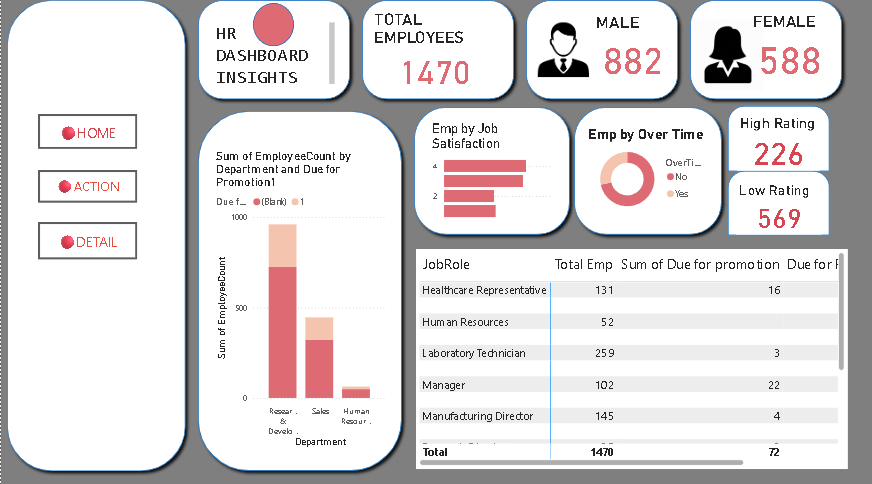

Layout of this report page (visuals, bound fields, positions):
{"tool":"powerbi","page":{"name":"Page 2","canvas":[1280,720],"ordinal":1},"visuals":[{"type":"shape","box":[278.8,0,240.2,162.9],"z":0},{"type":"shape","box":[999.5,0,240.2,162.9],"z":1000},{"type":"shape","box":[759.3,0,240.2,162.9],"z":2000},{"type":"shape","box":[519.1,0,240.2,162.9],"z":3000},{"type":"shape","box":[0,0,278.8,707.2],"z":4000},{"type":"shape","box":[278.8,162.9,315.8,544.3],"z":5000},{"type":"shape","box":[829.4,155.9,233.8,204.4],"z":6000},{"type":"shape","box":[595.6,155.9,245.6,204.4],"z":7000},{"type":"columnChart","fields":{"Category":["HR Analytics Data.Department"],"Y":["Sum(HR Analytics Data.EmployeeCount)"],"Series":["HR Analytics Data.Due for Promotion1"]},"box":[310,226.7,258.3,441.7],"z":8000},{"type":"clusteredBarChart","title":"Emp by Job Satisfaction","fields":{"Category":["HR Analytics Data.JobSatisfaction"],"Y":["CountNonNull(HR Analytics Data.EmployeeNumber)"]},"box":[626.5,185.3,183.8,145.6],"z":9000},{"type":"donutChart","title":"Emp by Over Time","fields":{"Category":["HR Analytics Data.OverTime"],"Y":["Sum(HR Analytics Data.EmployeeCount)"]},"box":[854.4,192.6,183.8,132.4],"z":10000},{"type":"card","title":"TOTAL EMPLOYEES","fields":{"Values":["HR Analytics Data.Total Emp"]},"box":[541.7,23.3,188.3,116.7],"z":11000},{"type":"image","box":[778.3,36.7,88.3,90],"z":12000},{"type":"card","title":"MALE","fields":{"Values":["HR Analytics Data.MALE"]},"box":[866.7,28.3,116.7,98.3],"z":13000},{"type":"card","title":"FEMALE","fields":{"Values":["HR Analytics Data.FEMALE"]},"box":[1096.7,26.7,115,100],"z":14000},{"type":"image","box":[1005,23.3,116.7,131.7],"z":15000},{"type":"pivotTable","fields":{"Rows":["HR Analytics Data.JobRole"],"Values":["HR Analytics Data.Total Emp","Sum(data csv promomtion.Due for promotion)","HR Analytics Data.Due for Retrenchment"]},"box":[607.4,373.5,632.4,322.1],"z":16000},{"type":"actionButton","box":[54.7,258.1,145.3,47.9],"z":17000},{"type":"actionButton","box":[54.7,333.2,145.3,54.7],"z":19000},{"type":"textbox","box":[310,36.7,183.3,103.3],"z":20000},{"type":"shape","box":[368.3,13.3,60,63.3],"z":21000},{"type":"shape","box":[1063.2,163.2,148.5,95.6],"z":22000},{"type":"shape","box":[1063.2,258.8,148.5,94.1],"z":23000},{"type":"actionButton","box":[54.7,176,145.3,51.3],"z":24000},{"type":"card","title":"High Rating","fields":{"Values":["HR Analytics Data.High Rating1"]},"box":[1076.5,177.9,122.1,80.9],"z":27000},{"type":"card","title":"Low Rating","fields":{"Values":["HR Analytics Data.Low Rating"]},"box":[1074.9,275.1,124.8,76.9],"z":28000}]}

Visuals, with their boxes in screenshot pixels (x1, y1, x2, y2), scaled from the page's 1280x720 canvas onto the 872x484 screenshot:
shape: <region>190, 0, 354, 110</region>
shape: <region>681, 0, 845, 110</region>
shape: <region>517, 0, 681, 110</region>
shape: <region>354, 0, 517, 110</region>
shape: <region>0, 0, 190, 475</region>
shape: <region>190, 110, 405, 475</region>
shape: <region>565, 105, 724, 242</region>
shape: <region>406, 105, 573, 242</region>
columnChart - HR Analytics Data.Department x Sum(HR Analytics Data.EmployeeCount): <region>211, 152, 387, 449</region>
"Emp by Job Satisfaction" clusteredBarChart: <region>427, 125, 552, 222</region>
"Emp by Over Time" donutChart: <region>582, 129, 707, 218</region>
"TOTAL EMPLOYEES" card: <region>369, 16, 497, 94</region>
image: <region>530, 25, 590, 85</region>
"MALE" card: <region>590, 19, 670, 85</region>
"FEMALE" card: <region>747, 18, 825, 85</region>
image: <region>685, 16, 764, 104</region>
pivotTable - HR Analytics Data.JobRole x HR Analytics Data.Total Emp: <region>414, 251, 845, 468</region>
actionButton: <region>37, 174, 136, 206</region>
actionButton: <region>37, 224, 136, 261</region>
textbox: <region>211, 25, 336, 94</region>
shape: <region>251, 9, 292, 51</region>
shape: <region>724, 110, 825, 174</region>
shape: <region>724, 174, 825, 237</region>
actionButton: <region>37, 118, 136, 153</region>
"High Rating" card: <region>733, 120, 817, 174</region>
"Low Rating" card: <region>732, 185, 817, 237</region>
